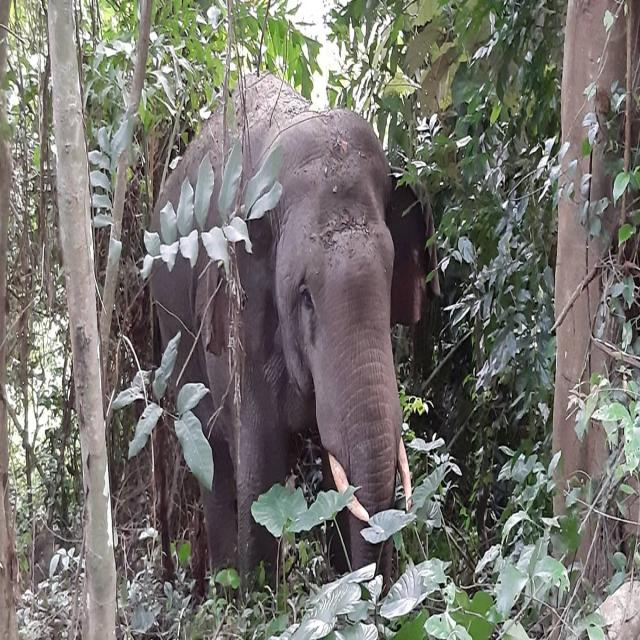Elephant: (136, 84, 431, 584)
